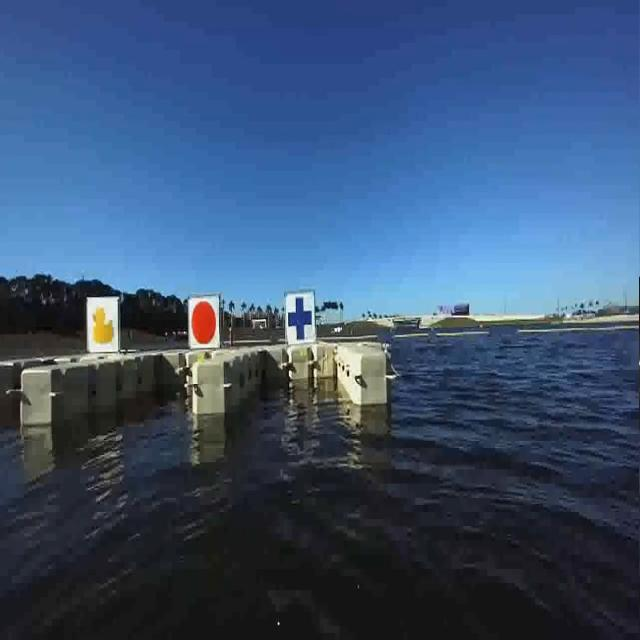blue-cross: (282, 296, 320, 352)
red-dot: (187, 299, 221, 348)
yellow-duck: (87, 294, 126, 356)
